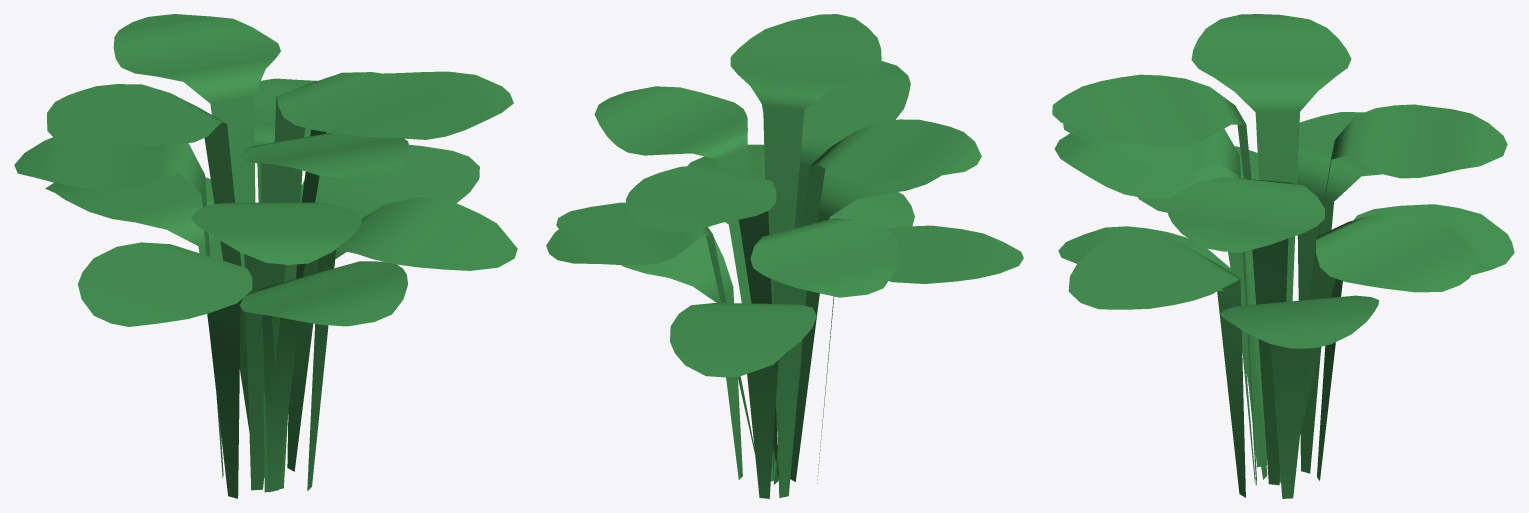
Rendered from plant_pilea_small_A.fbx.
The picture shows the model from 3 angles, left to right: view 1: azimuth 30°, elevation 25°; view 2: azimuth 150°, elevation 25°; view 3: azimuth 270°, elevation 25°; orthographic projection. The views are drawn at different scales.
Visible parts, largest first — view 1: plant_pilea_small_A_leaf_K, plant_pilea_small_A_leaf_C, plant_pilea_small_A_leaf_I, plant_pilea_small_A_leaf_N, plant_pilea_small_A_leaf_A, plant_pilea_small_A_leaf_J, plant_pilea_small_A_leaf_B, plant_pilea_small_A_leaf_M, plant_pilea_small_A_leaf_D, plant_pilea_small_A_leaf_E, plant_pilea_small_A_leaf_L, plant_pilea_small_A_leaf_F (+1 smaller); view 2: plant_pilea_small_A_leaf_B, plant_pilea_small_A_leaf_E, plant_pilea_small_A_leaf_L, plant_pilea_small_A_leaf_F, plant_pilea_small_A_leaf_C, plant_pilea_small_A_leaf_A, plant_pilea_small_A_leaf_G, plant_pilea_small_A_leaf_D, plant_pilea_small_A_leaf_K, plant_pilea_small_A_leaf_M, plant_pilea_small_A_leaf_I, plant_pilea_small_A_leaf_N (+1 smaller); view 3: plant_pilea_small_A_leaf_A, plant_pilea_small_A_leaf_F, plant_pilea_small_A_leaf_J, plant_pilea_small_A_leaf_G, plant_pilea_small_A_leaf_B, plant_pilea_small_A_leaf_C, plant_pilea_small_A_leaf_M, plant_pilea_small_A_leaf_I, plant_pilea_small_A_leaf_E, plant_pilea_small_A_leaf_L, plant_pilea_small_A_leaf_D, plant_pilea_small_A_leaf_N (+1 smaller).
Boxes of the visible parts, x1,y1,x2,y2 form: plant_pilea_small_A_leaf_K: (78,242,252,498); plant_pilea_small_A_leaf_C: (113,14,280,296); plant_pilea_small_A_leaf_I: (191,202,362,490); plant_pilea_small_A_leaf_N: (240,261,407,492); plant_pilea_small_A_leaf_A: (47,84,249,429); plant_pilea_small_A_leaf_J: (307,196,517,490); plant_pilea_small_A_leaf_B: (274,72,454,142); plant_pilea_small_A_leaf_M: (287,144,479,471); plant_pilea_small_A_leaf_D: (240,133,409,492); plant_pilea_small_A_leaf_E: (14,137,223,478); plant_pilea_small_A_leaf_L: (45,174,222,324); plant_pilea_small_A_leaf_F: (296,71,513,278); plant_pilea_small_A_leaf_B: (730,14,881,479); plant_pilea_small_A_leaf_E: (750,218,899,497); plant_pilea_small_A_leaf_L: (670,303,816,498); plant_pilea_small_A_leaf_F: (594,86,775,481); plant_pilea_small_A_leaf_C: (626,164,778,481); plant_pilea_small_A_leaf_A: (773,119,981,484); plant_pilea_small_A_leaf_G: (546,204,754,453); plant_pilea_small_A_leaf_D: (762,61,910,448); plant_pilea_small_A_leaf_K: (817,225,1023,483); plant_pilea_small_A_leaf_M: (556,202,742,479); plant_pilea_small_A_leaf_I: (790,169,941,481); plant_pilea_small_A_leaf_N: (829,192,914,229); plant_pilea_small_A_leaf_A: (1191,14,1351,482); plant_pilea_small_A_leaf_F: (1167,177,1324,485); plant_pilea_small_A_leaf_J: (1068,231,1245,497); plant_pilea_small_A_leaf_G: (1300,213,1476,435); plant_pilea_small_A_leaf_B: (1052,74,1252,252); plant_pilea_small_A_leaf_C: (1308,104,1507,299); plant_pilea_small_A_leaf_M: (1220,295,1378,498); plant_pilea_small_A_leaf_I: (1054,133,1267,479); plant_pilea_small_A_leaf_E: (1297,112,1381,473); plant_pilea_small_A_leaf_L: (1317,204,1514,480); plant_pilea_small_A_leaf_D: (1063,123,1256,485); plant_pilea_small_A_leaf_N: (1058,226,1255,484).
Bounding box in the file's own units: 47.7 × 43.38 × 46.21.
